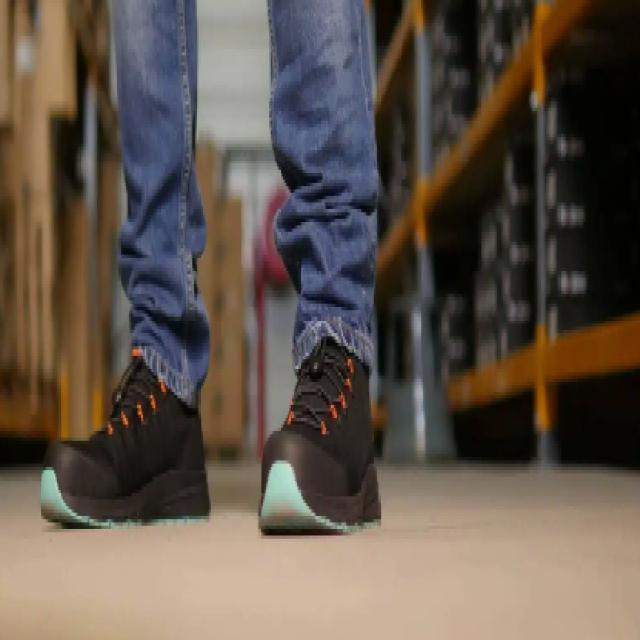boots: (32, 317, 387, 539)
